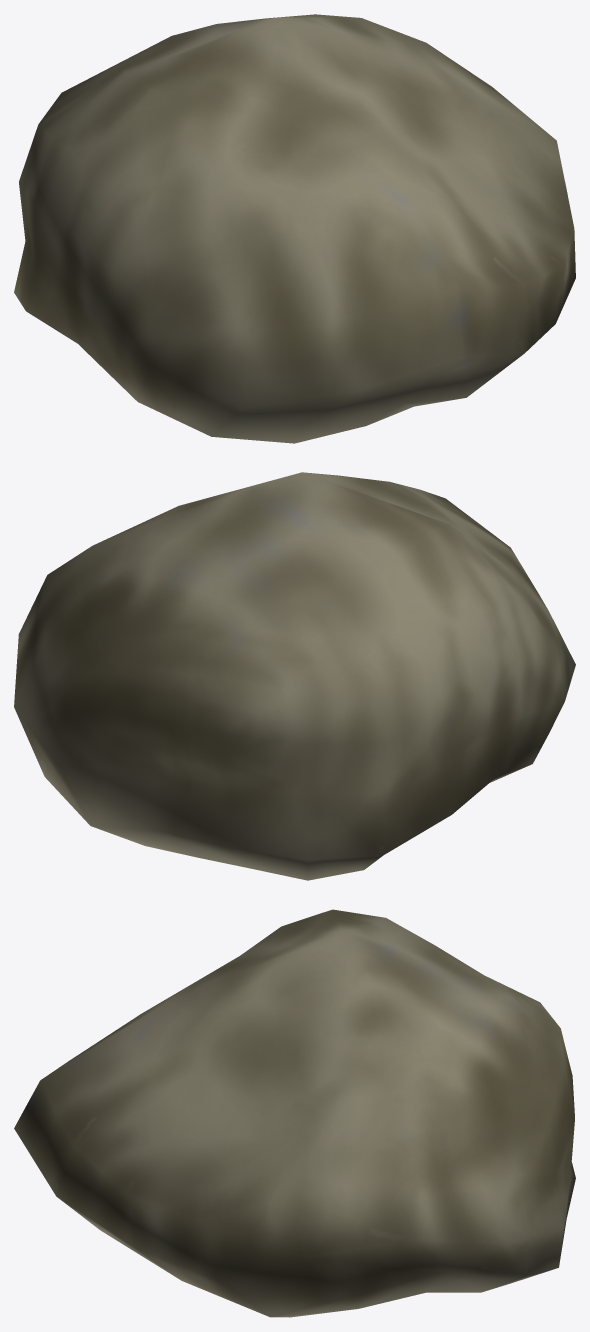
Rendered from small_rock.FBX.
The picture shows the model from 3 angles, top to bottom: view 1: azimuth 30°, elevation 25°; view 2: azimuth 150°, elevation 25°; view 3: azimuth 270°, elevation 25°; orthographic projection. The views are drawn at different scales.
Parts seen in each view (by area): view 1: Sphere001; view 2: Sphere001; view 3: Sphere001.
Part boxes in pixels (bbox=[...]): Sphere001: bbox=[14, 14, 575, 443]; Sphere001: bbox=[14, 472, 575, 880]; Sphere001: bbox=[14, 909, 575, 1317].
Size of the model in its own units: 74.11 by 51.28 by 81.92.
Materials: 1 (1 with a texture image).
